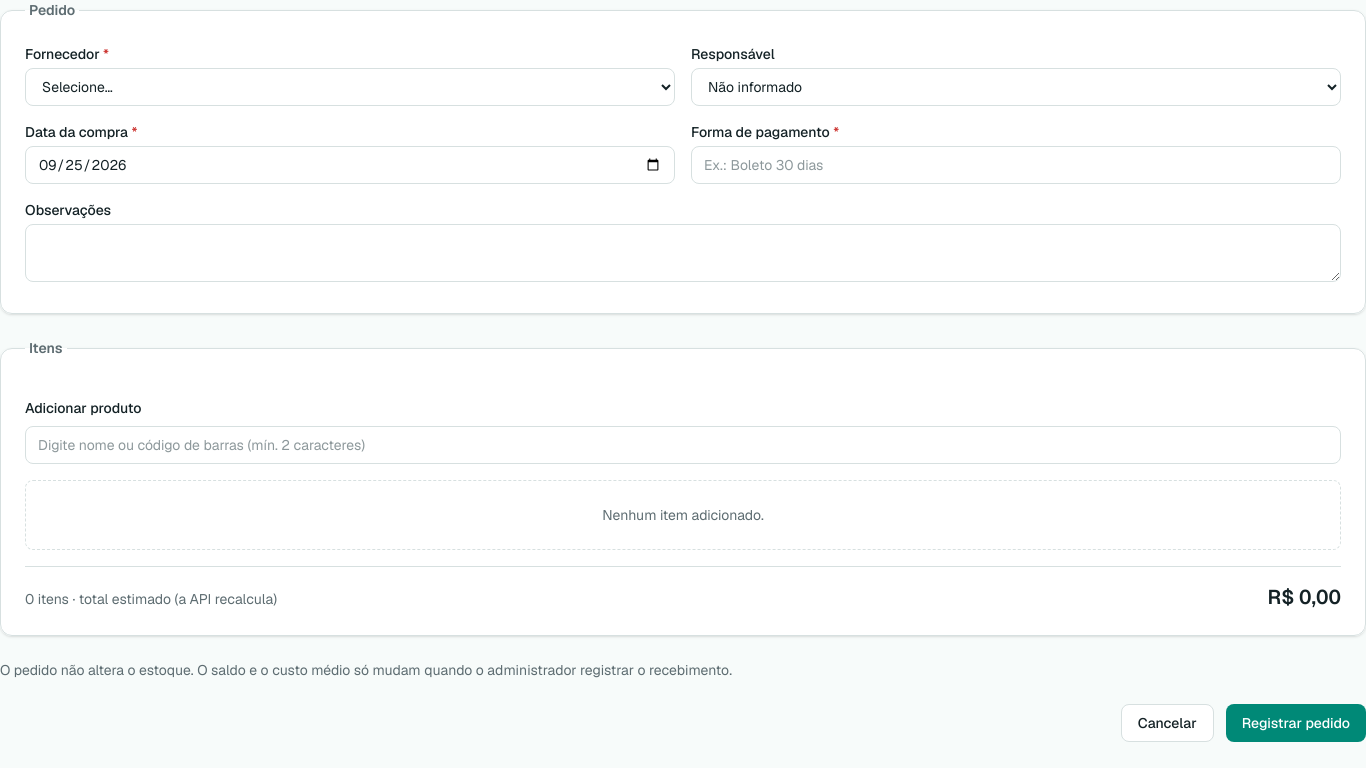
Test case: CompraForm › impede adicionar o mesmo produto duas vezes
The width and height of the screenshot is (1366, 768).
Type "pr" into the search field labelled "Adicionar produto" at (683, 445), box [25,426,1341,464]
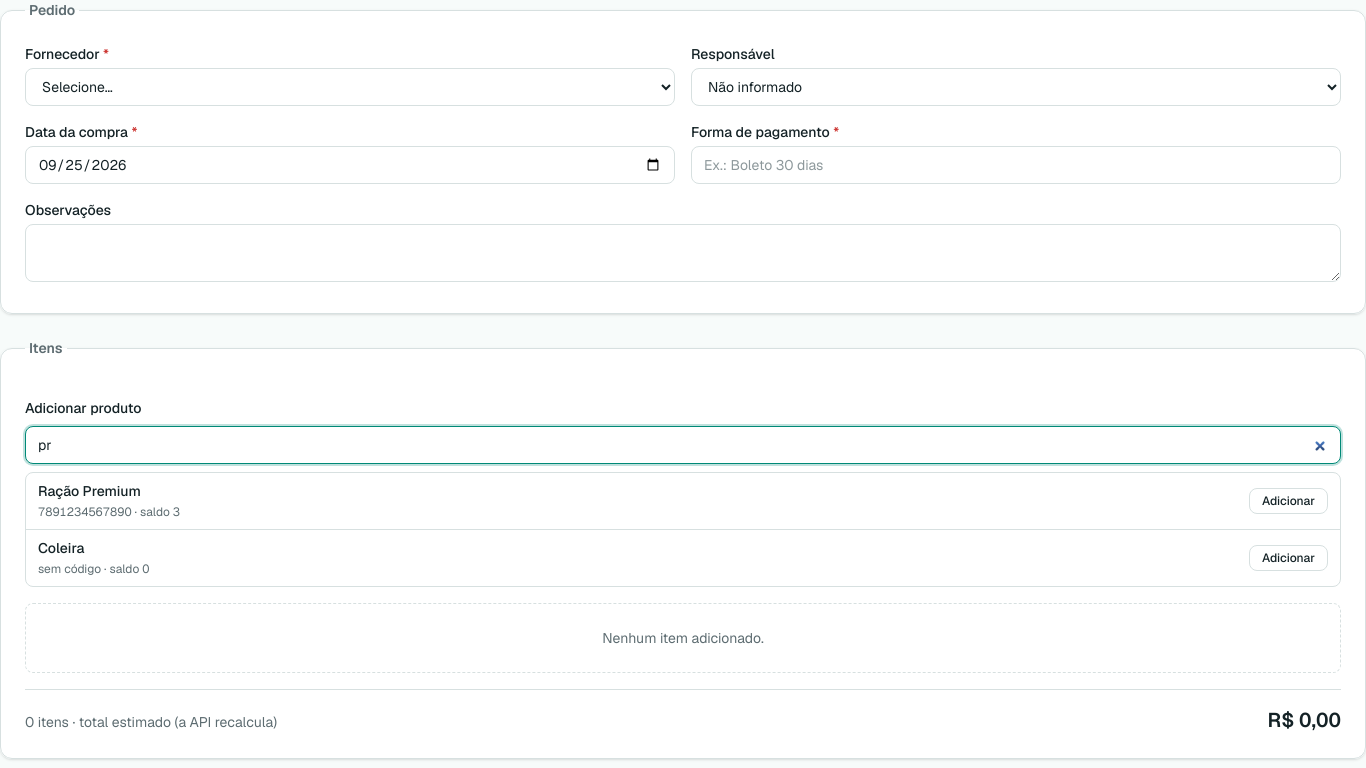
Click the button "Adicionar" in the row of "Ração Premium" at (1288, 501), box [1249,488,1328,514]
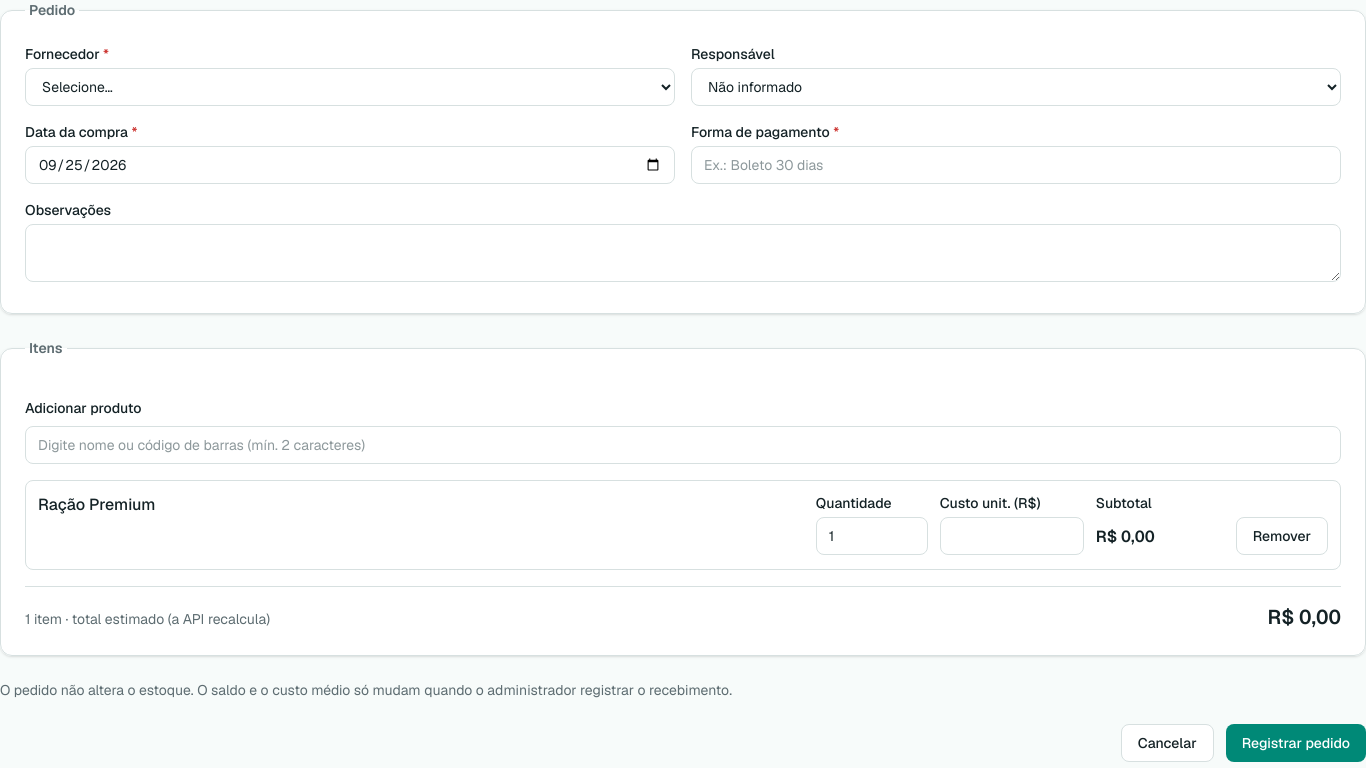
Type "ra" into the search field labelled "Adicionar produto" at (683, 445), box [25,426,1341,464]
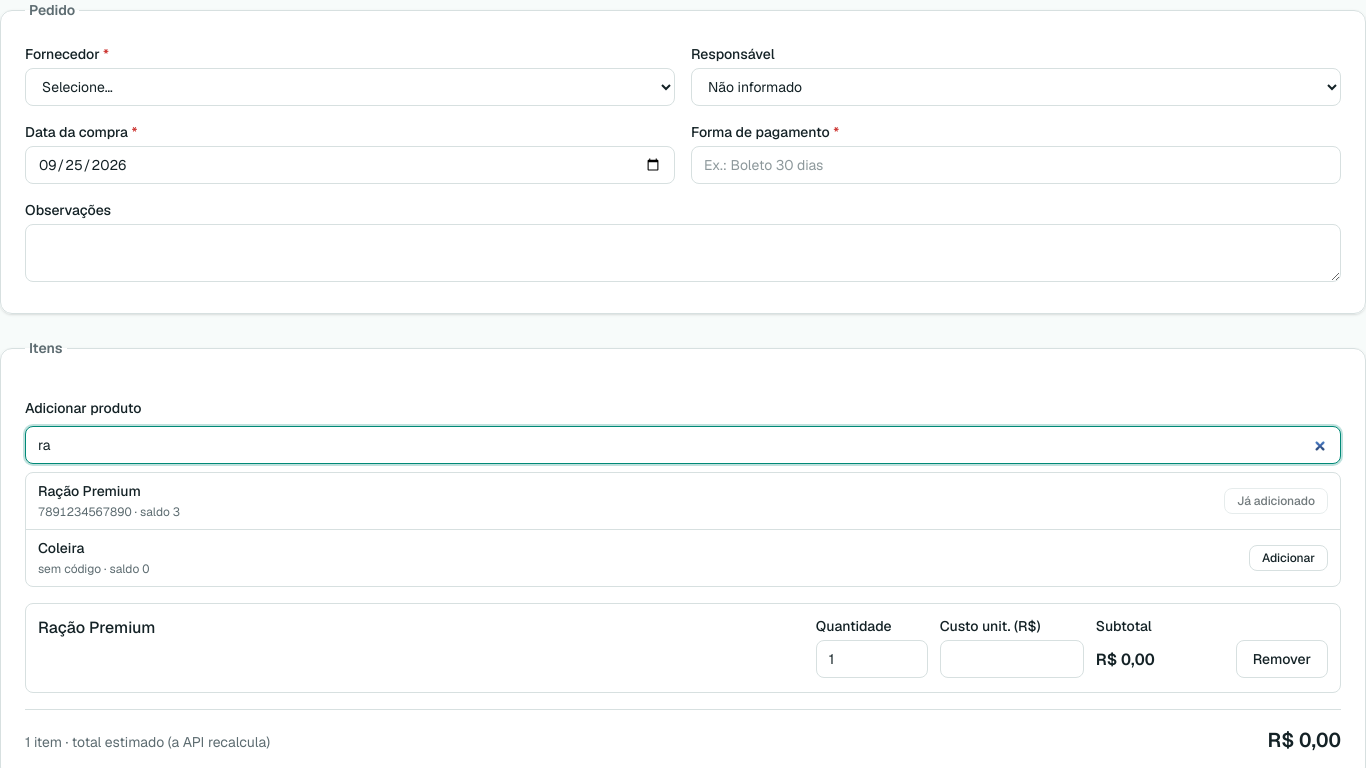
Expected: the button with aria-label "Ração Premium já adicionado" is disabled, [1224,488,1328,514]
Expected: the text "Ração Premium" is shown 2 times, [38,482,141,500]; [38,617,156,638]
